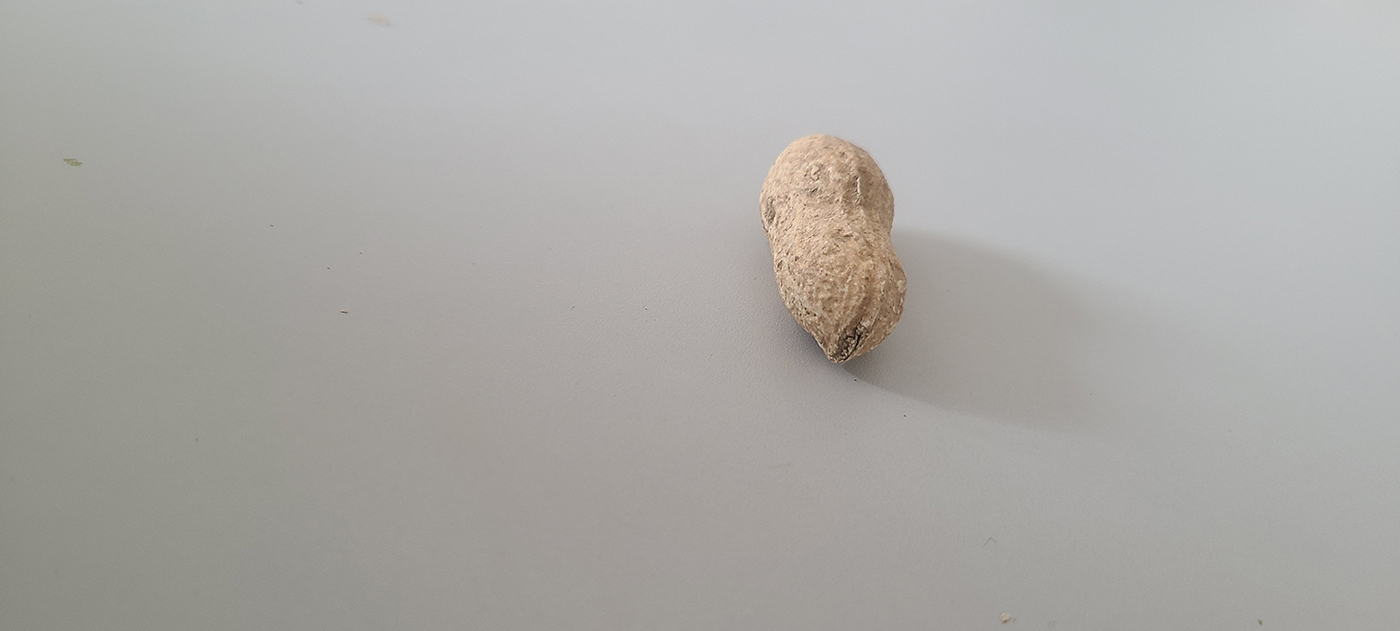h: (757, 129, 910, 365)
